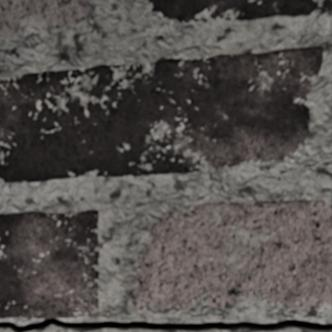brick: (0, 47, 322, 182), (132, 201, 331, 310), (0, 210, 98, 318), (148, 0, 331, 23), (0, 0, 91, 41)
crack: (0, 318, 331, 331)
